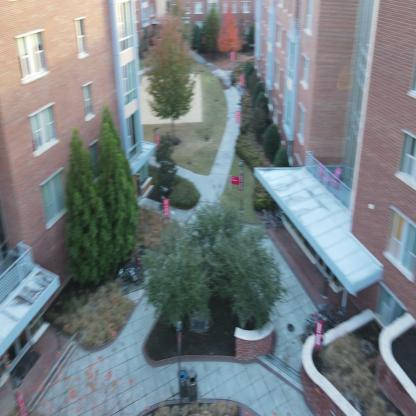Wolf Ridge: (269, 5, 415, 361), (0, 0, 143, 350), (148, 2, 263, 78)
